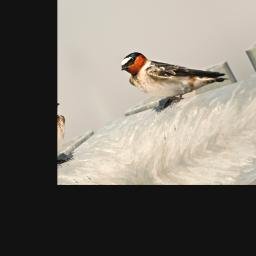Swallow: (115, 16, 231, 124)
